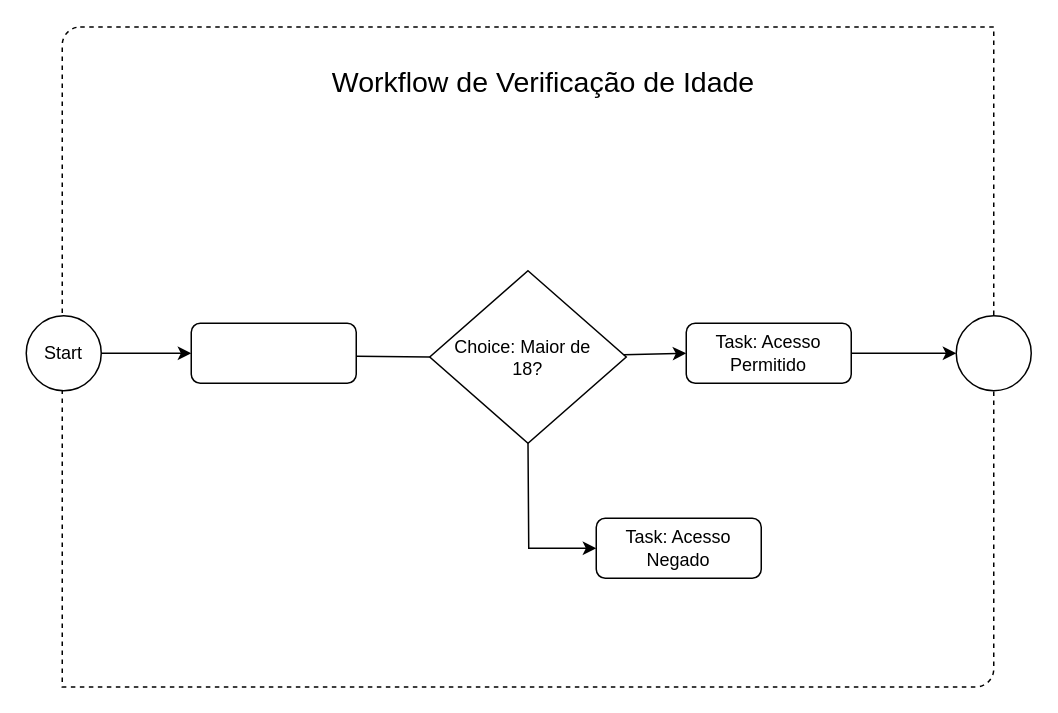
Image size: 1058x713. Some labels were removed from this diagram. Here are the shapes that lost their labels. From the top down, the centre of each, then its label:
point (273, 352): Task: Inserir idade
point (993, 352): End
